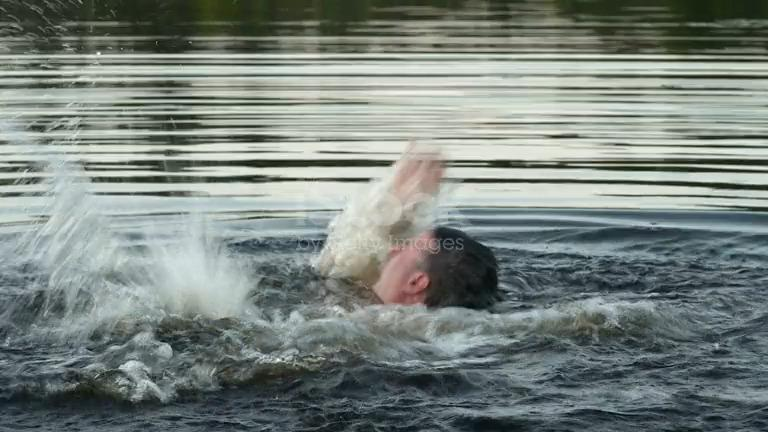Drowning: (87, 76, 549, 358)
